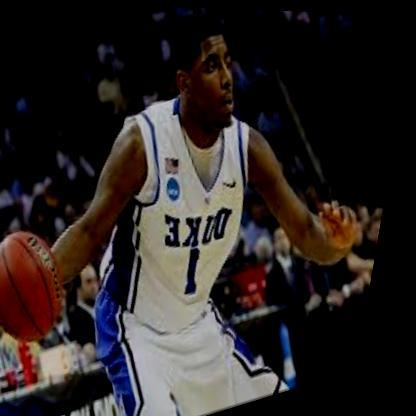basketball: (0, 219, 94, 351)
